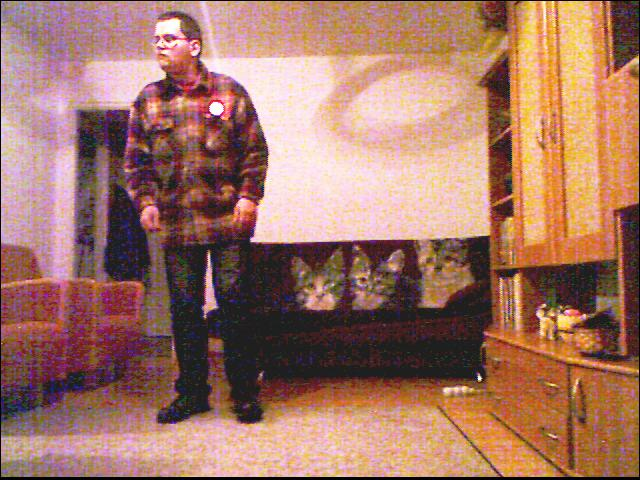standing: (119, 8, 302, 439)
